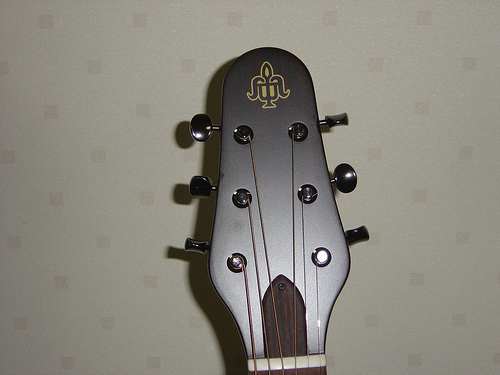guitar: (177, 44, 372, 375)
